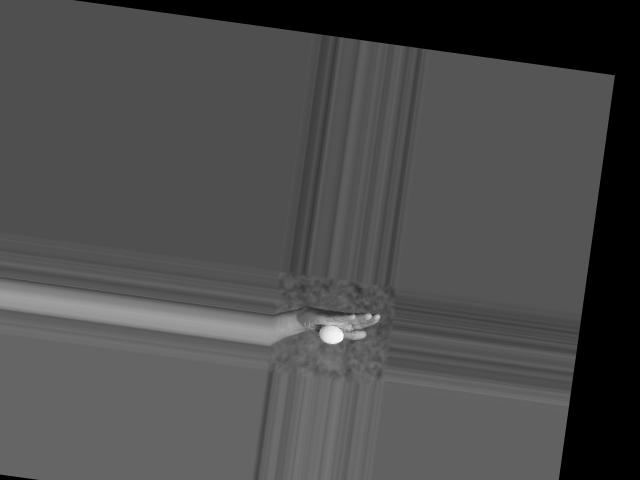egg: (317, 323, 344, 345)
